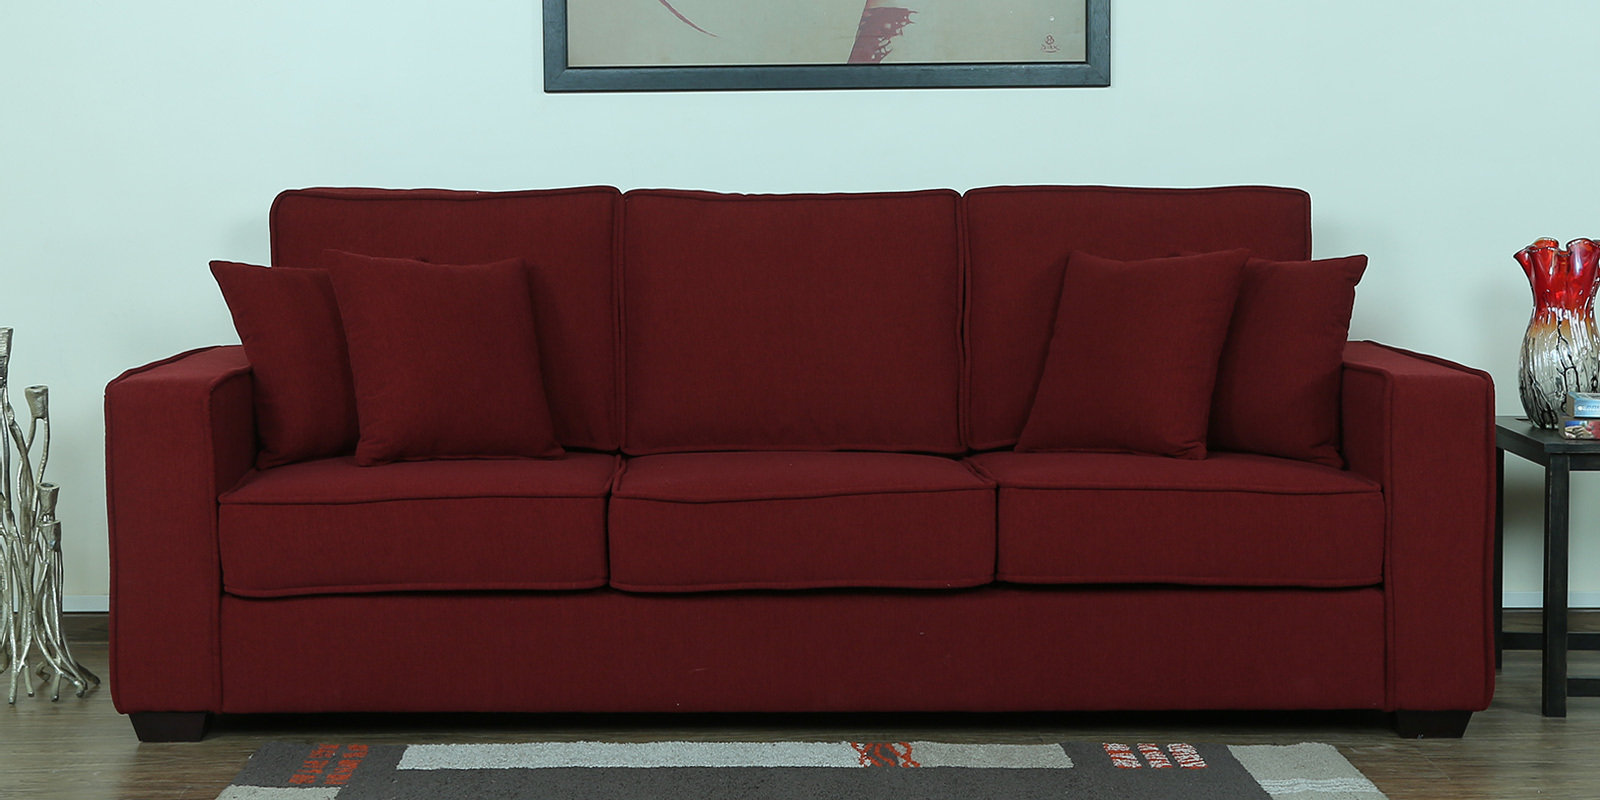Hugo Three Seater Sofa in Garnet Red Colour by CasaCraft: (79, 169, 1511, 751)
